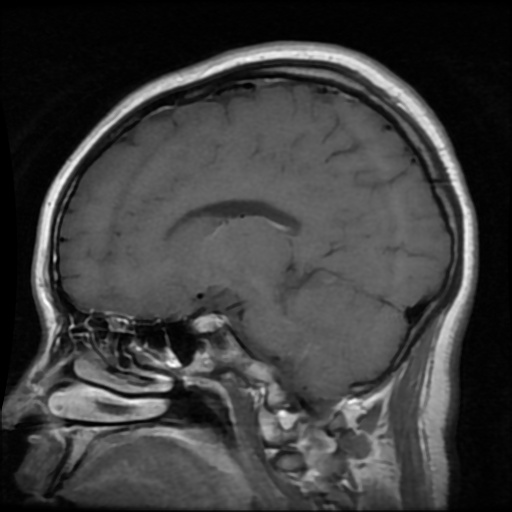pituitary: (192, 313, 225, 332)
